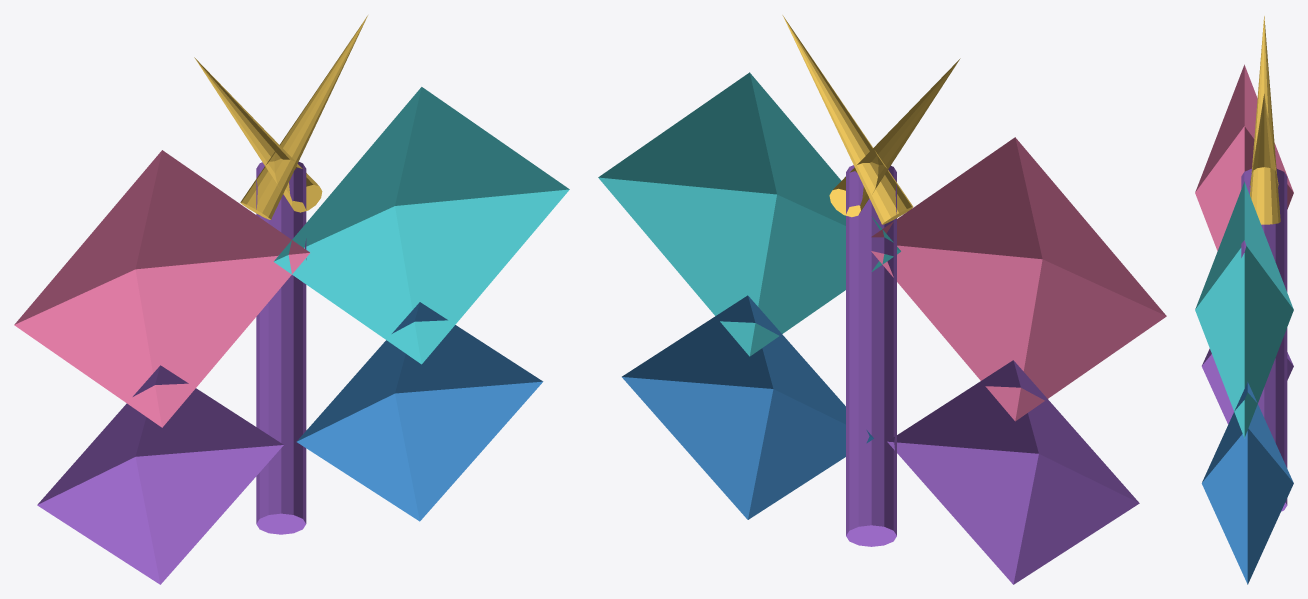
Rendered from minglora_prism_butterfly.gltf.
3 views of the same model, side by side, from view 1: azimuth 30°, elevation 25°; view 2: azimuth 150°, elevation 25°; view 3: azimuth 270°, elevation 25° (orthographic). The views are drawn at different scales.
Parts seen in each view (by area): view 1: minglora_prism_butterfly_1, minglora_prism_butterfly_2, minglora_prism_butterfly_4, minglora_prism_butterfly_3, minglora_prism_butterfly_0, minglora_prism_butterfly_6, minglora_prism_butterfly_5; view 2: minglora_prism_butterfly_1, minglora_prism_butterfly_2, minglora_prism_butterfly_3, minglora_prism_butterfly_4, minglora_prism_butterfly_0, minglora_prism_butterfly_6, minglora_prism_butterfly_5; view 3: minglora_prism_butterfly_2, minglora_prism_butterfly_4, minglora_prism_butterfly_1, minglora_prism_butterfly_0, minglora_prism_butterfly_5, minglora_prism_butterfly_3, minglora_prism_butterfly_6.
Boxes of the visible parts, x1=… form: minglora_prism_butterfly_1: x1=14, y1=150, x2=309, y2=427; minglora_prism_butterfly_2: x1=273, y1=87, x2=569, y2=364; minglora_prism_butterfly_4: x1=296, y1=302, x2=543, y2=521; minglora_prism_butterfly_3: x1=37, y1=365, x2=283, y2=584; minglora_prism_butterfly_0: x1=256, y1=162, x2=306, y2=534; minglora_prism_butterfly_6: x1=240, y1=15, x2=367, y2=219; minglora_prism_butterfly_5: x1=194, y1=57, x2=322, y2=212; minglora_prism_butterfly_1: x1=871, y1=137, x2=1166, y2=421; minglora_prism_butterfly_2: x1=598, y1=72, x2=900, y2=356; minglora_prism_butterfly_3: x1=887, y1=360, x2=1139, y2=584; minglora_prism_butterfly_4: x1=622, y1=295, x2=873, y2=519; minglora_prism_butterfly_0: x1=846, y1=165, x2=896, y2=546; minglora_prism_butterfly_6: x1=782, y1=15, x2=913, y2=224; minglora_prism_butterfly_5: x1=829, y1=58, x2=960, y2=217; minglora_prism_butterfly_2: x1=1195, y1=181, x2=1293, y2=438; minglora_prism_butterfly_4: x1=1201, y1=382, x2=1293, y2=584; minglora_prism_butterfly_1: x1=1195, y1=64, x2=1293, y2=250; minglora_prism_butterfly_0: x1=1241, y1=168, x2=1287, y2=511; minglora_prism_butterfly_5: x1=1250, y1=16, x2=1280, y2=224; minglora_prism_butterfly_3: x1=1201, y1=348, x2=1293, y2=424; minglora_prism_butterfly_6: x1=1249, y1=94, x2=1278, y2=186.
Bounding box in the file's own units: 1.8 × 1.58 × 0.3.
